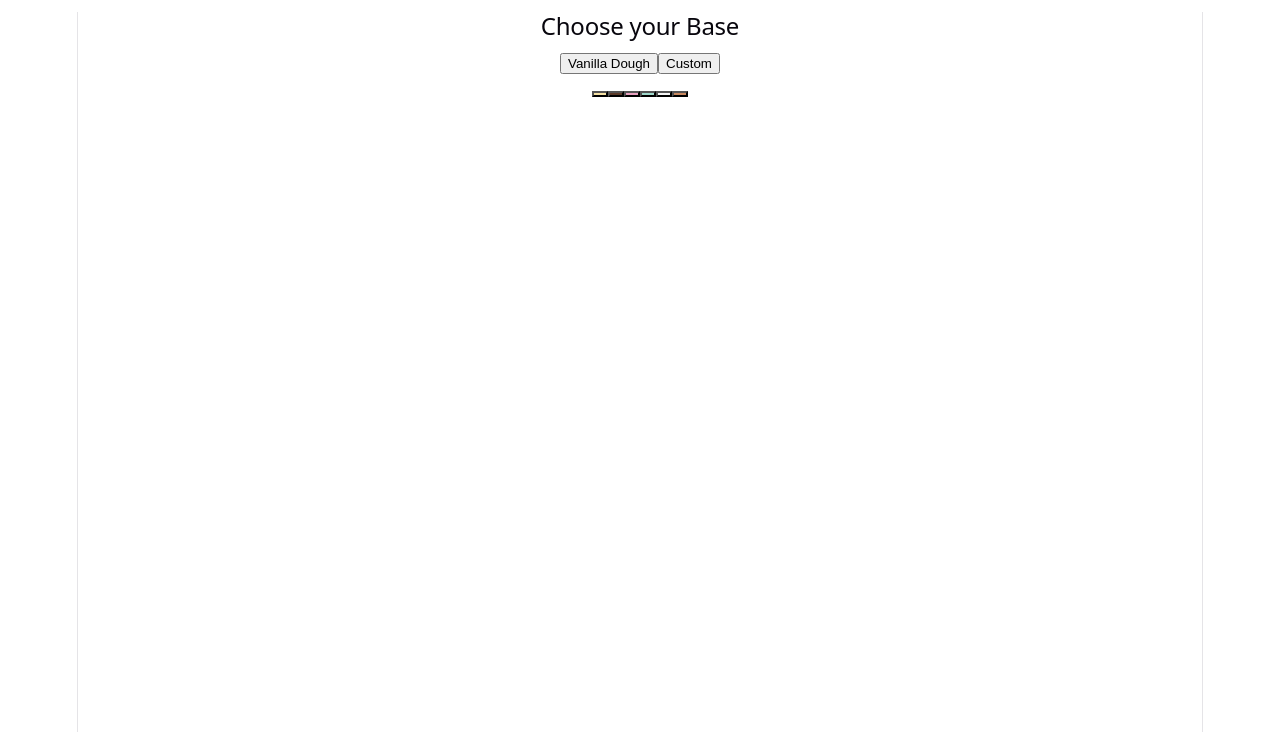
it: BaseStep › shows the custom base name field after Custom is clicked
Click the button "Custom" at (689, 64), box [658, 53, 720, 74]
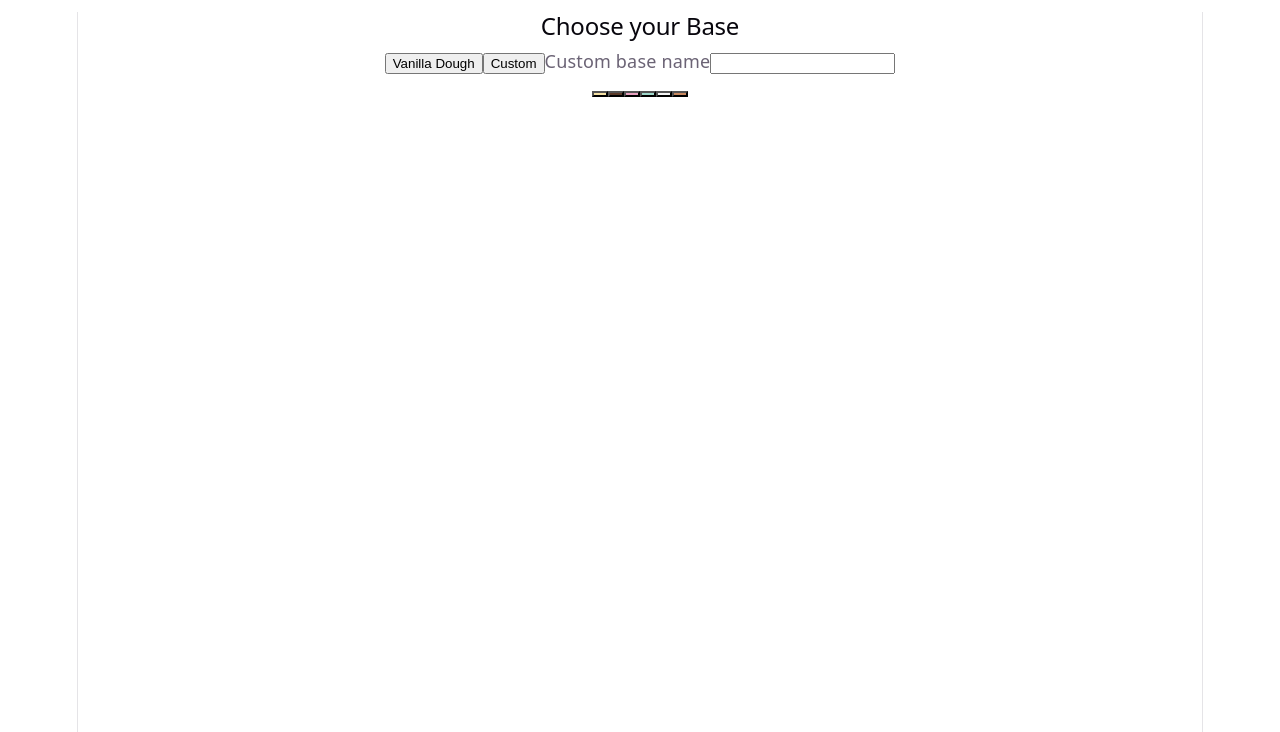
Now the field labelled "Custom base name" is shown, box [710, 53, 895, 74]
